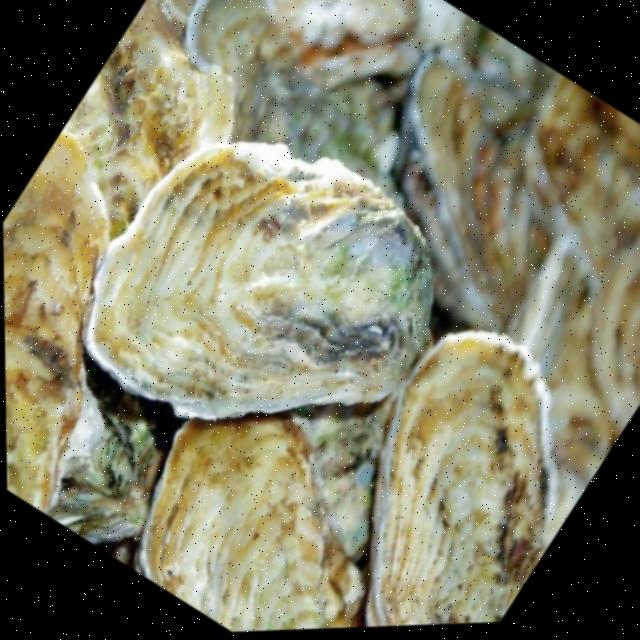Oyster-Closed: (322, 34, 623, 343)
Oyster-Indeterminate: (45, 66, 497, 520), (262, 300, 636, 630), (97, 349, 474, 637), (2, 120, 235, 516), (142, 0, 452, 241), (421, 224, 640, 540), (465, 69, 640, 317), (533, 203, 640, 434)
